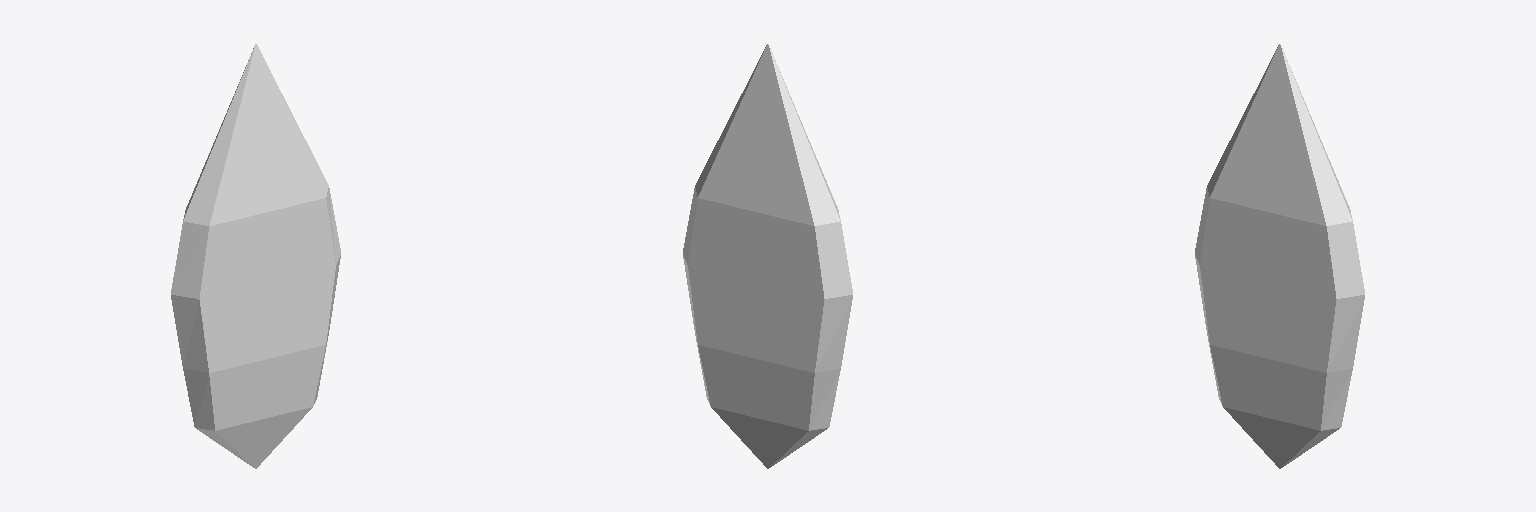
File: shard.obj
3 views of the same model, side by side, from view 1: azimuth 30°, elevation 25°; view 2: azimuth 150°, elevation 25°; view 3: azimuth 330°, elevation 25° (orthographic).
Visible parts, largest first — view 1: Cube; view 2: Cube; view 3: Cube.
Part boxes in pixels (left/top/right/bottom): Cube: left=171, top=44, right=340, bottom=468; Cube: left=683, top=44, right=852, bottom=468; Cube: left=1195, top=44, right=1364, bottom=468.
Size of the model in its own units: 0.4187 by 1 by 0.1.